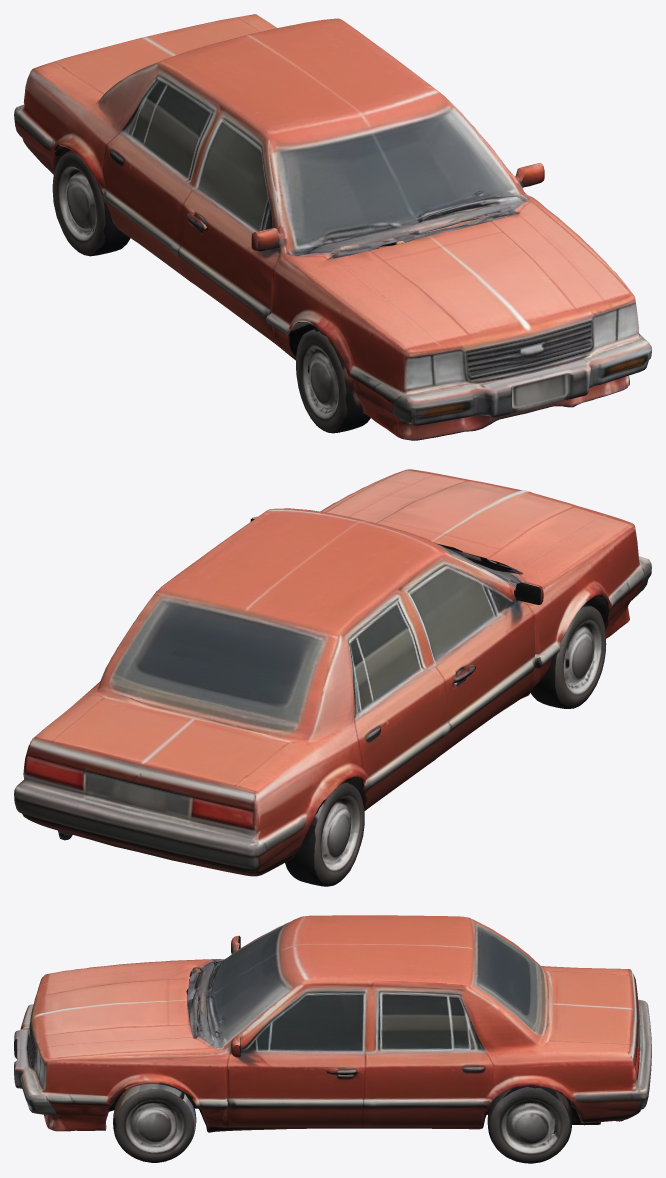
File: sedan.glb
3 views of the same model, one above another, from view 1: azimuth 30°, elevation 25°; view 2: azimuth 150°, elevation 25°; view 3: azimuth 270°, elevation 25° (orthographic). The views are drawn at different scales.
Visible parts, largest first — view 1: Sedan; view 2: Sedan; view 3: Sedan.
Boxes of the visible parts, box(x1,y1,x2,y2) form: Sedan: box(14, 14, 651, 440); Sedan: box(14, 469, 651, 886); Sedan: box(14, 915, 651, 1163).
Bounding box in the file's own units: 6.49 × 4.7 × 15.87.
1 material, 1 textured.
